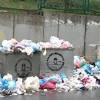Container: (2, 51, 42, 79), (42, 49, 74, 77)
Garbage: (75, 56, 100, 90), (1, 78, 43, 96), (41, 77, 80, 92), (2, 39, 41, 52), (42, 38, 74, 49)
